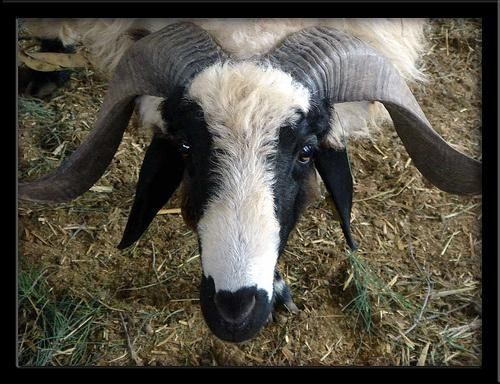sheep: (17, 20, 483, 343)
